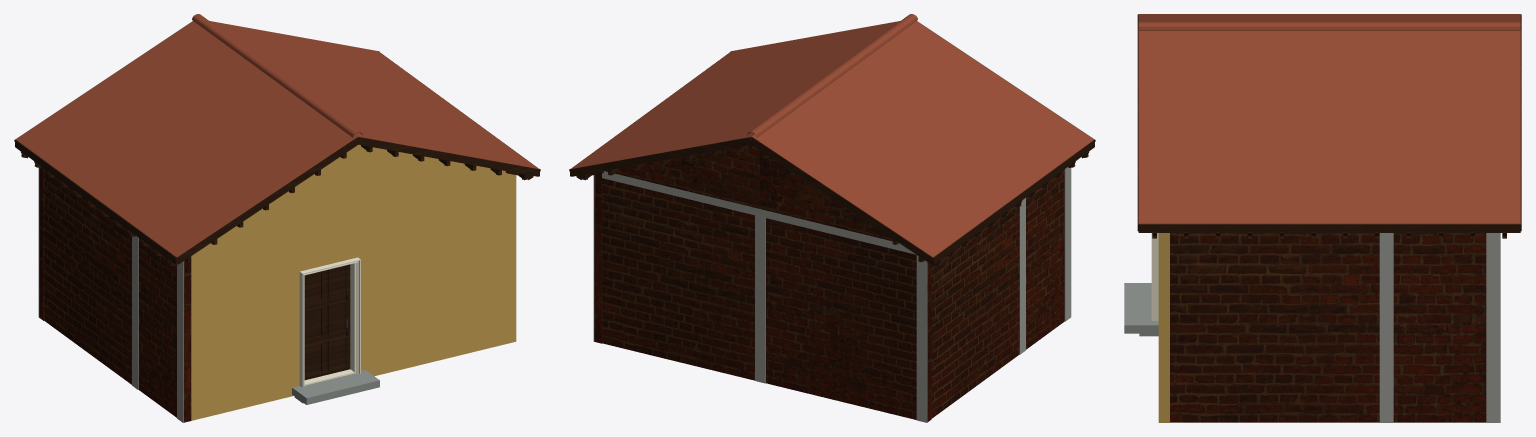
File: building.glb
3 views of the same model, side by side, from view 1: azimuth 30°, elevation 25°; view 2: azimuth 150°, elevation 25°; view 3: azimuth 270°, elevation 25° (orthographic). The views are drawn at different scales.
Parts seen in each view (by area): view 1: house:0/edge0/z0/house:0/edge0/z0/wall_0_0, house:0/edge3/z0/house:0/edge3/z0/wall_0_0, roof_assembly/cubierta/roof_gable_closure#0006, roof_assembly/cubierta/roof_gable_closure#0002, site/entrance/0/entrance_step#0002, roof_assembly/cubierta/roof_fascia#0002, roof_assembly/cubierta/roof_fascia#0004, roof_assembly/cubierta/roof_fascia#0001, house:0/edge3/z0/house:0/edge3/z0/column_1_0, house:0/edge3/z0/house:0/edge3/z0/column_2_0, house:0/edge0/z0/opening_u2.80_v0.12/door_panel_back#0001, house:0/edge2/z0/house:0/edge2/z0/wall_0_0 (+6 smaller); view 2: house:0/edge2/z0/house:0/edge2/z0/wall_0_0, house:0/edge3/z0/house:0/edge3/z0/wall_0_0, roof_assembly/cubierta/roof_gable_closure#0010, roof_assembly/cubierta/roof_gable_closure#0003, house:0/edge2/z0/house:0/edge2/z0/beam_0_0, house:0/edge2/z0/house:0/edge2/z0/column_1_0, house:0/edge2/z0/house:0/edge2/z0/column_2_0, roof_assembly/cubierta/roof_fascia#0003, roof_assembly/cubierta/roof_fascia#0006, house:0/edge1/z0/house:0/edge1/z0/wall_0_0, roof_assembly/cubierta/roof_fascia#0001, house:0/edge3/z0/house:0/edge3/z0/column_1_0 (+1 smaller); view 3: house:0/edge1/z0/house:0/edge1/z0/wall_0_0, roof_assembly/cubierta/roof_fascia#0005, house:0/edge1/z0/house:0/edge1/z0/column_1_0, house:0/edge1/z0/house:0/edge1/z0/column_2_0, house:0/edge0/z0/house:0/edge0/z0/wall_0_0, site/entrance/0/entrance_step#0002, house:0/edge0/z0/opening_u2.80_v0.12/door_moulding#0028, roof_assembly/cubierta/roof_fascia#0004, roof_assembly/cubierta/roof_fascia#0006.
Boxes of the visible parts, <box> form: house:0/edge0/z0/house:0/edge0/z0/wall_0_0: <box>191,171,516,420</box>; house:0/edge3/z0/house:0/edge3/z0/wall_0_0: <box>44,169,191,422</box>; roof_assembly/cubierta/roof_gable_closure#0006: <box>350,144,504,208</box>; roof_assembly/cubierta/roof_gable_closure#0002: <box>217,150,349,241</box>; site/entrance/0/entrance_step#0002: <box>292,370,379,404</box>; roof_assembly/cubierta/roof_fascia#0002: <box>175,138,359,264</box>; roof_assembly/cubierta/roof_fascia#0004: <box>357,137,540,176</box>; roof_assembly/cubierta/roof_fascia#0001: <box>15,140,177,264</box>; house:0/edge3/z0/house:0/edge3/z0/column_1_0: <box>177,261,183,422</box>; house:0/edge3/z0/house:0/edge3/z0/column_2_0: <box>132,236,138,389</box>; house:0/edge0/z0/opening_u2.80_v0.12/door_panel_back#0001: <box>304,270,345,371</box>; house:0/edge2/z0/house:0/edge2/z0/wall_0_0: <box>39,167,44,320</box>; house:0/edge2/z0/house:0/edge2/z0/wall_0_0: <box>602,178,931,422</box>; house:0/edge3/z0/house:0/edge3/z0/wall_0_0: <box>931,169,1064,418</box>; roof_assembly/cubierta/roof_gable_closure#0010: <box>605,144,759,208</box>; roof_assembly/cubierta/roof_gable_closure#0003: <box>760,150,892,241</box>; house:0/edge2/z0/house:0/edge2/z0/beam_0_0: <box>602,171,915,254</box>; house:0/edge2/z0/house:0/edge2/z0/column_1_0: <box>916,255,927,422</box>; house:0/edge2/z0/house:0/edge2/z0/column_2_0: <box>755,215,765,383</box>; roof_assembly/cubierta/roof_fascia#0003: <box>750,138,934,264</box>; roof_assembly/cubierta/roof_fascia#0006: <box>569,137,751,176</box>; house:0/edge1/z0/house:0/edge1/z0/wall_0_0: <box>594,173,602,343</box>; roof_assembly/cubierta/roof_fascia#0001: <box>932,140,1094,264</box>; house:0/edge3/z0/house:0/edge3/z0/column_1_0: <box>1064,167,1071,321</box>; house:0/edge1/z0/house:0/edge1/z0/wall_0_0: <box>1170,233,1486,422</box>; roof_assembly/cubierta/roof_fascia#0005: <box>1138,224,1520,232</box>; house:0/edge1/z0/house:0/edge1/z0/column_1_0: <box>1486,233,1500,422</box>; house:0/edge1/z0/house:0/edge1/z0/column_2_0: <box>1379,233,1393,422</box>; house:0/edge0/z0/house:0/edge0/z0/wall_0_0: <box>1158,233,1169,422</box>; site/entrance/0/entrance_step#0002: <box>1124,283,1158,333</box>; house:0/edge0/z0/opening_u2.80_v0.12/door_moulding#0028: <box>1151,233,1158,320</box>; roof_assembly/cubierta/roof_fascia#0004: <box>1137,29,1139,231</box>; roof_assembly/cubierta/roof_fascia#0006: <box>1519,29,1521,231</box>.
Size of the model in its own units: 8.76 by 5.92 by 6.97.
Materials: 8 (2 with a texture image).
